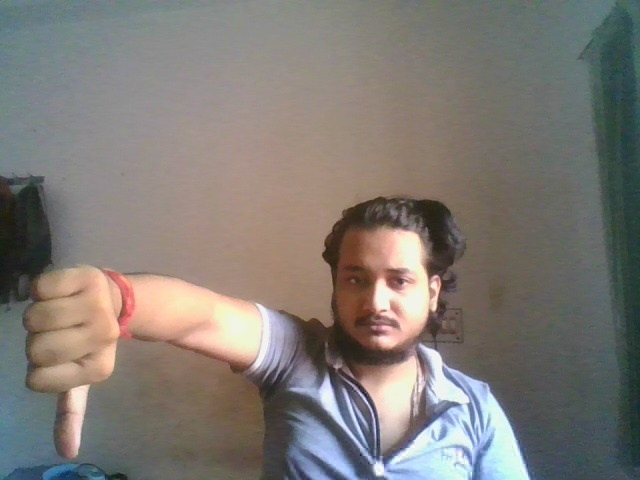ThumbsDown: (22, 264, 122, 466)
